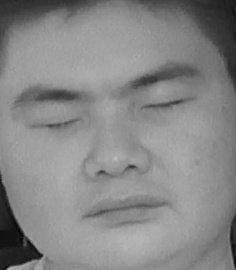blink: (29, 109, 82, 142), (141, 90, 197, 121)
mouth: (75, 186, 170, 236)
